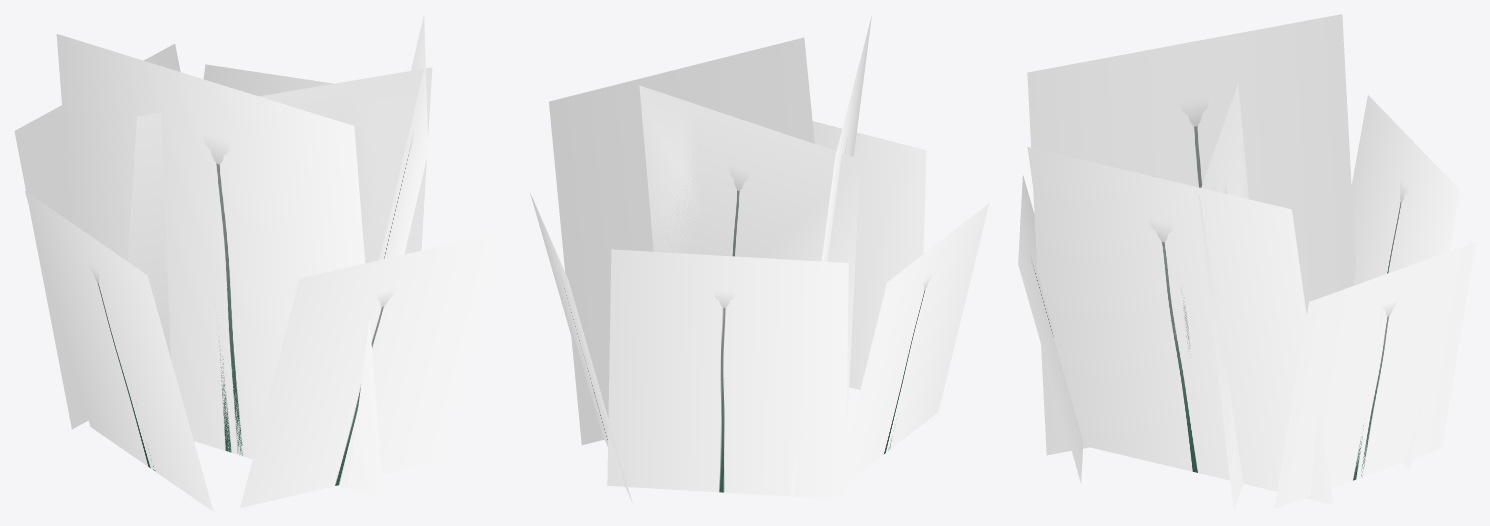
File: TFF_Flower_Patch_02.fbx
3 renders of one model, left to right at view 1: azimuth 30°, elevation 25°; view 2: azimuth 150°, elevation 25°; view 3: azimuth 270°, elevation 25°, orthographic. The views are drawn at different scales.
Visible parts, largest first — view 1: TFF_Flower_Patch_02_LOD0; view 2: TFF_Flower_Patch_02_LOD0; view 3: TFF_Flower_Patch_02_LOD0.
Part boxes in pixels (<box>): TFF_Flower_Patch_02_LOD0: <box>14,14,500,511</box>; TFF_Flower_Patch_02_LOD0: <box>530,15,989,511</box>; TFF_Flower_Patch_02_LOD0: <box>1018,14,1475,511</box>.
Size of what is drawn, in the model's own units: 1.06 by 0.9946 by 1.13.
